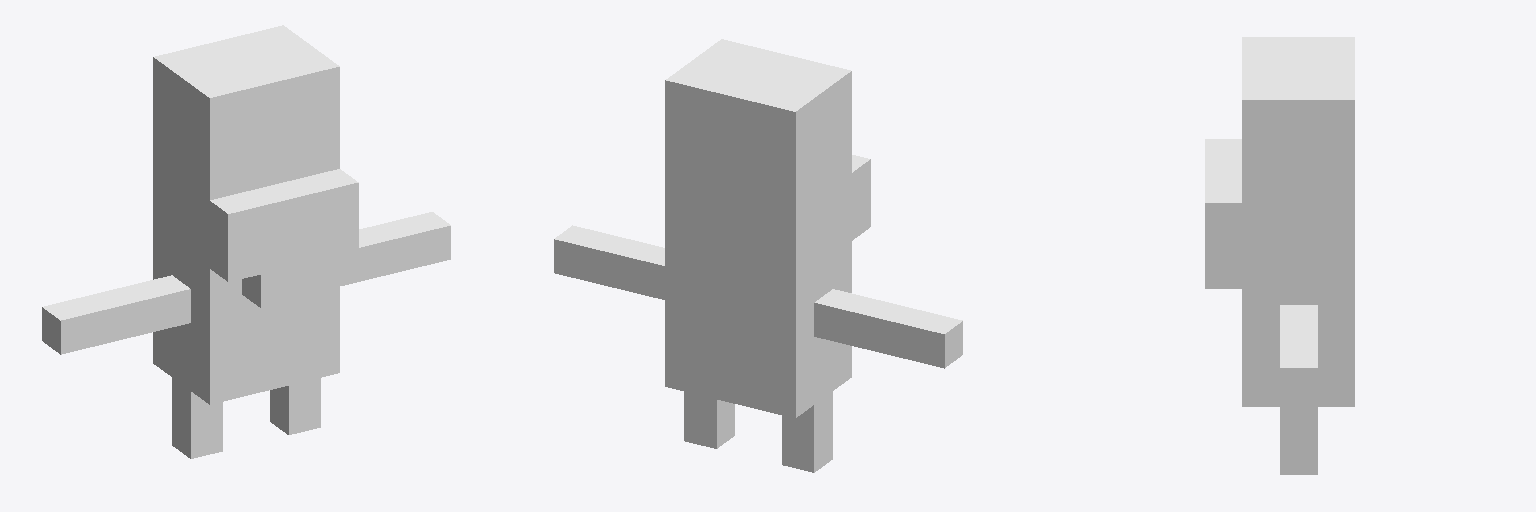
Rendered from chara_Skin4.obj.
3 views of the same model, side by side, from view 1: azimuth 30°, elevation 25°; view 2: azimuth 150°, elevation 25°; view 3: azimuth 270°, elevation 25° (orthographic).
Parts seen in each view (by area): view 1: object 1; view 2: object 1; view 3: object 1.
Boxes of the visible parts, <box> form: object 1: <box>42,25,450,458</box>; object 1: <box>554,39,962,472</box>; object 1: <box>1205,37,1354,474</box>.
Bounding box in the file's own units: 1.2 × 1.1 × 0.4.